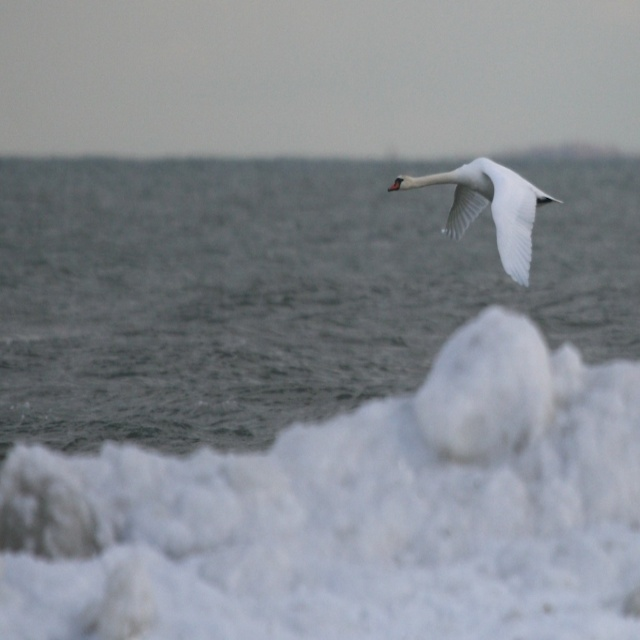Goose: (392, 143, 577, 287)
